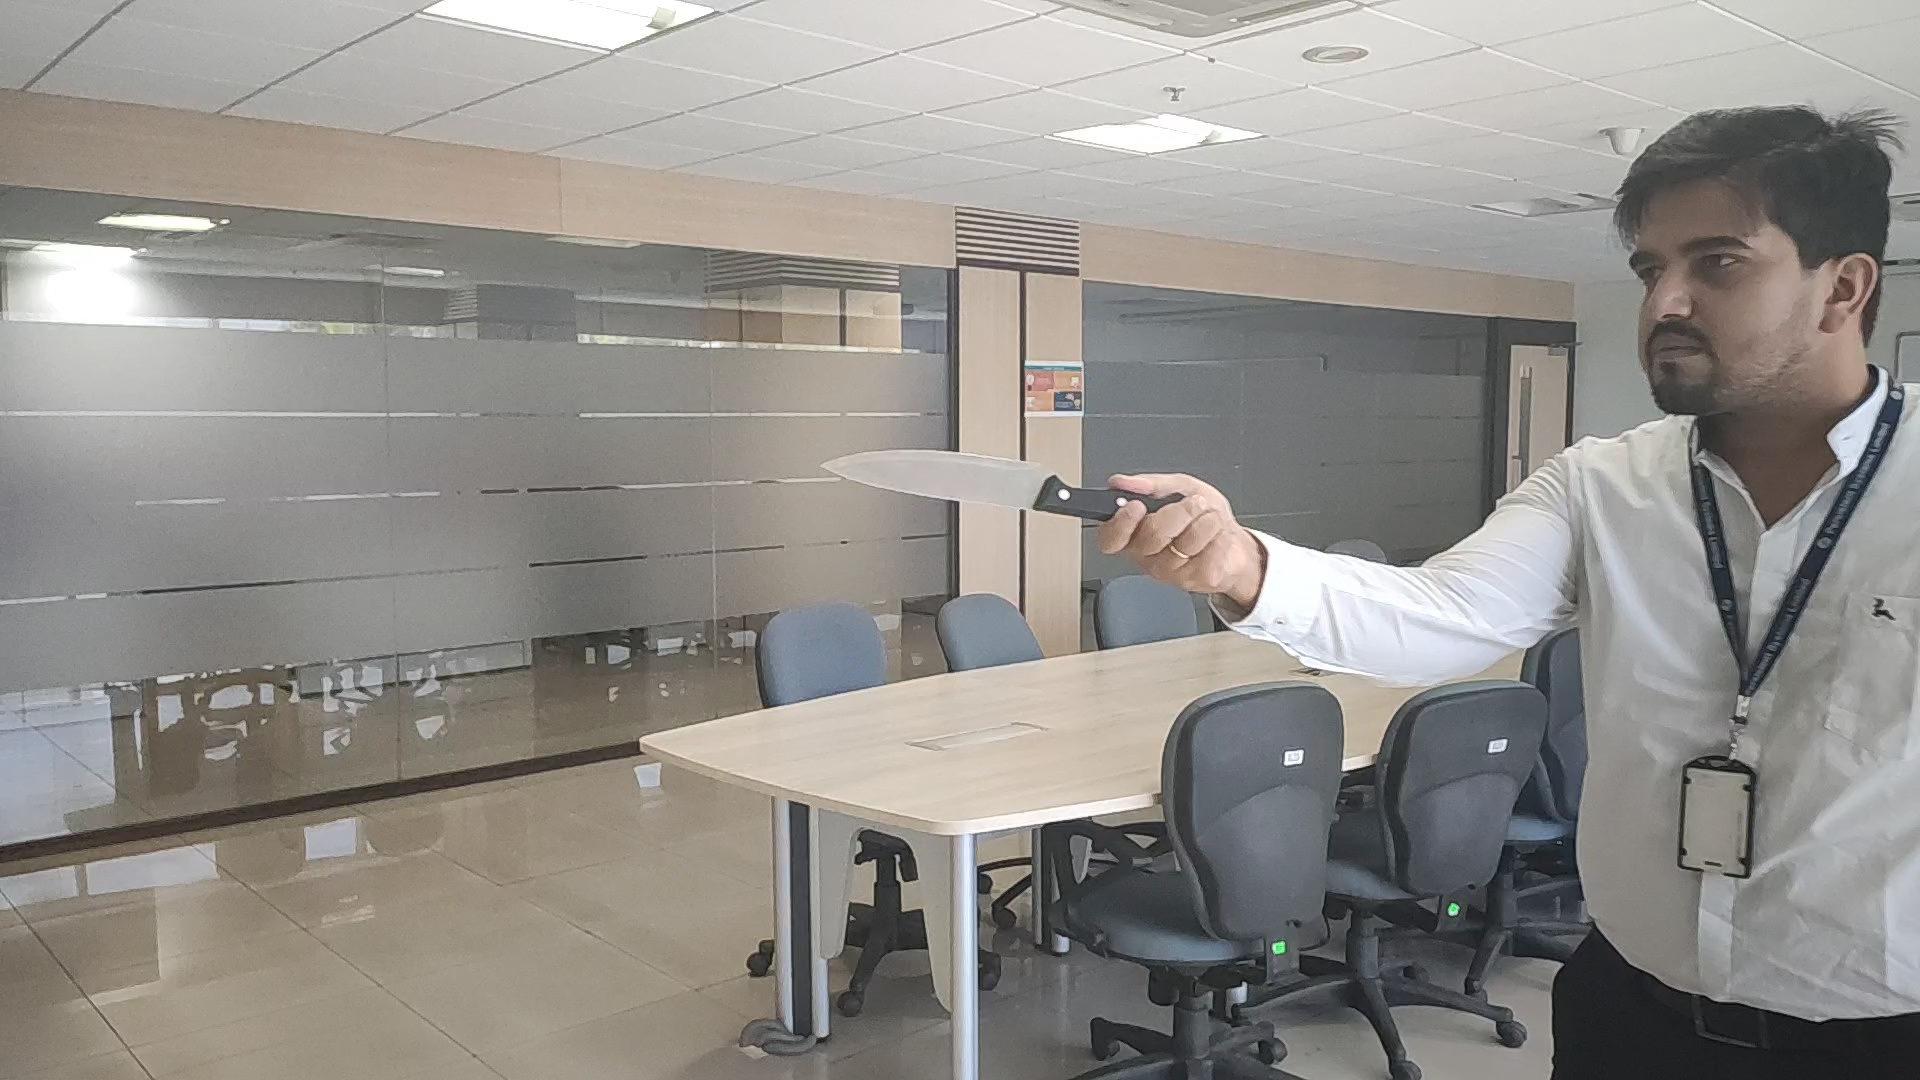knife: (822, 448, 1113, 521)
